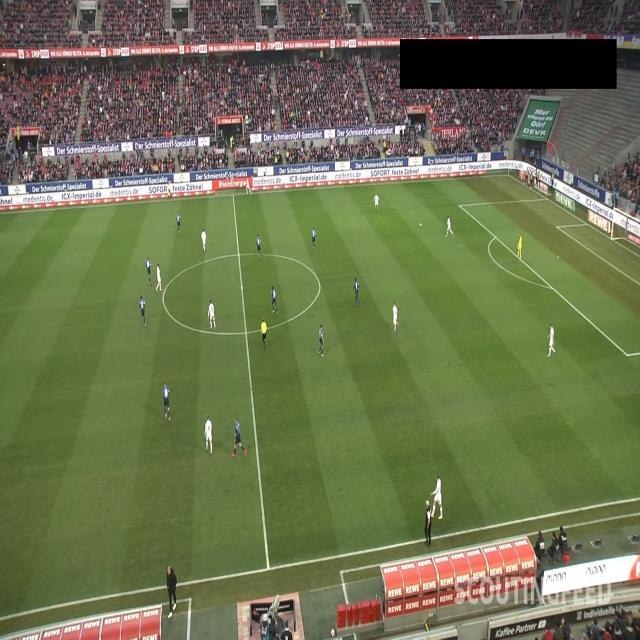ball: (419, 222, 422, 228)
